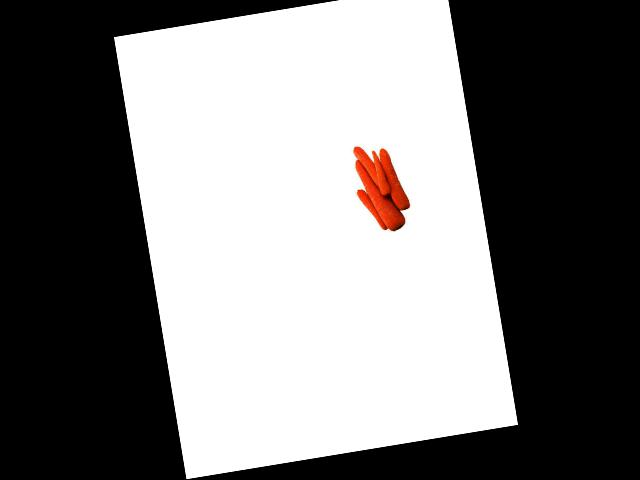carrot: (381, 143, 408, 214)
